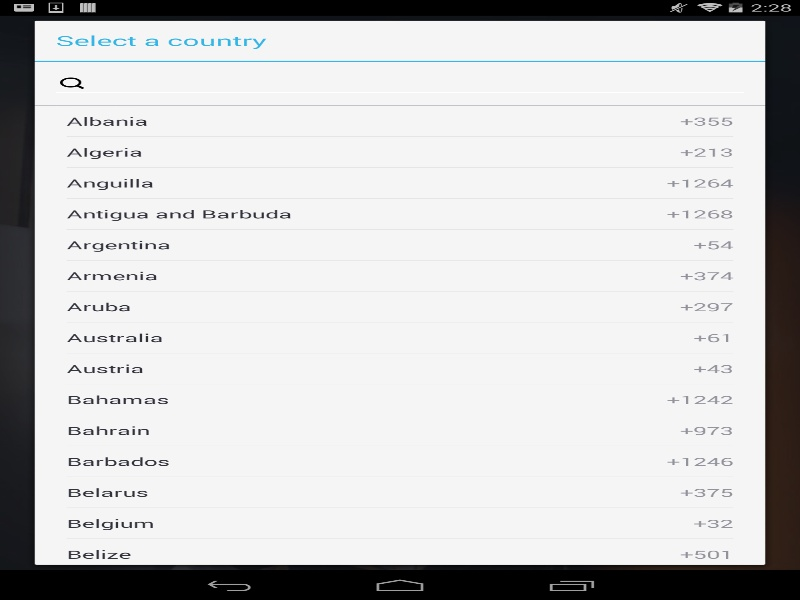Input: (50, 69, 749, 97)
